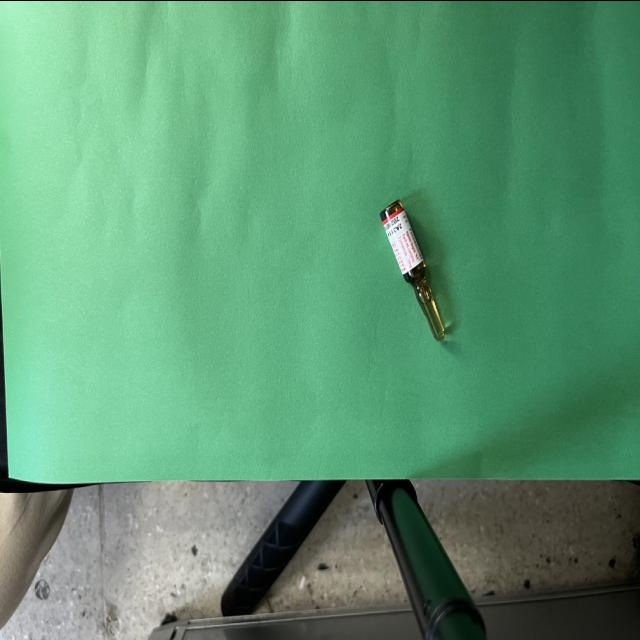Ampoules: (380, 199, 446, 341)
